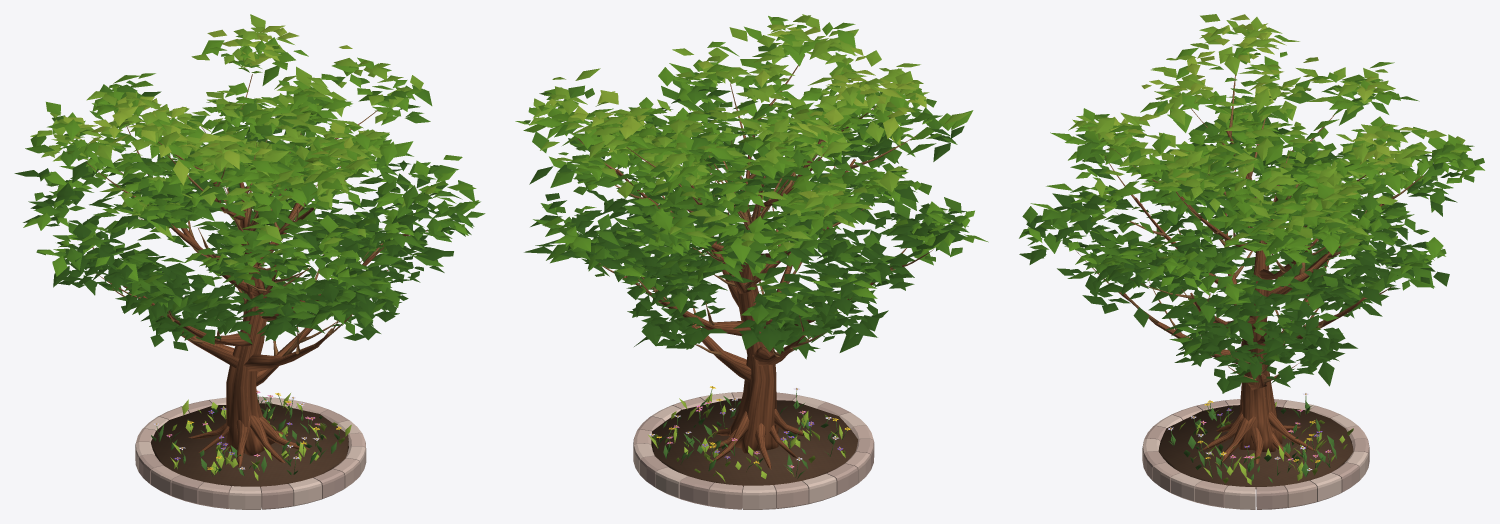
File: tree-near.glb
3 renders of one model, left to right at view 1: azimuth 30°, elevation 25°; view 2: azimuth 150°, elevation 25°; view 3: azimuth 270°, elevation 25°, orthographic. The views are drawn at different scales.
Visible parts, largest first — view 1: Modeled broadleaf canopy · hue 1, Soil bed, Contoured camphor trunk, Radius-cut limestone planter block, Crown leader, Flower stem, Planter foliage.001; view 2: Modeled broadleaf canopy · hue 1, Soil bed, Radius-cut limestone planter block, Contoured camphor trunk, Crown leader, Flower stem, Planter foliage.001; view 3: Modeled broadleaf canopy · hue 1, Soil bed, Radius-cut limestone planter block, Contoured camphor trunk, Crown leader, Flower stem, Planter foliage.001.
Boxes of the visible parts, <box> form: Modeled broadleaf canopy · hue 1: <box>14,14,485,350</box>; Soil bed: <box>151,403,348,488</box>; Contoured camphor trunk: <box>123,174,383,467</box>; Radius-cut limestone planter block: <box>135,396,366,509</box>; Crown leader: <box>86,74,427,356</box>; Flower stem: <box>151,394,339,476</box>; Planter foliage.001: <box>170,393,351,480</box>; Modeled broadleaf canopy · hue 1: <box>515,14,988,359</box>; Soil bed: <box>651,398,857,486</box>; Radius-cut limestone planter block: <box>633,392,874,509</box>; Contoured camphor trunk: <box>616,135,892,469</box>; Crown leader: <box>572,55,933,356</box>; Flower stem: <box>653,389,846,478</box>; Planter foliage.001: <box>648,393,845,482</box>; Modeled broadleaf canopy · hue 1: <box>1019,14,1484,393</box>; Soil bed: <box>1158,405,1353,488</box>; Radius-cut limestone planter block: <box>1142,399,1369,509</box>; Contoured camphor trunk: <box>1123,131,1382,464</box>; Crown leader: <box>1075,75,1424,383</box>; Flower stem: <box>1169,396,1336,482</box>; Planter foliage.001: <box>1179,402,1353,484</box>.
Bounding box in the file's own units: 4.36 × 3.95 × 4.32.
Materials: 9 (5 with a texture image).
